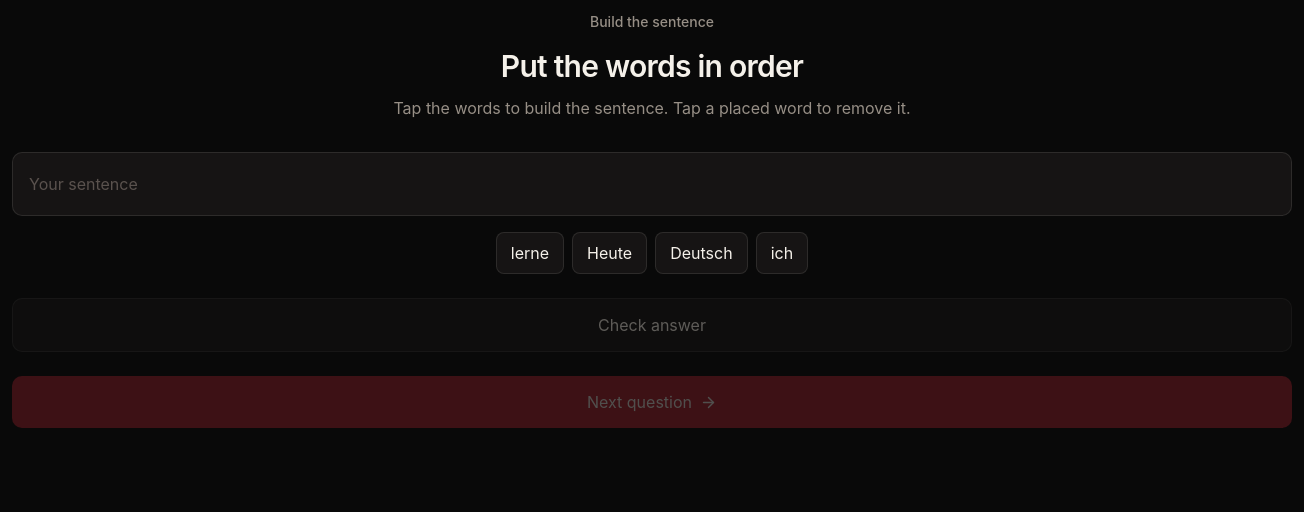
CoursePractice › rejects incorrect verb-second order
Click the button "Heute" at (610, 253), box [572,232,647,274]
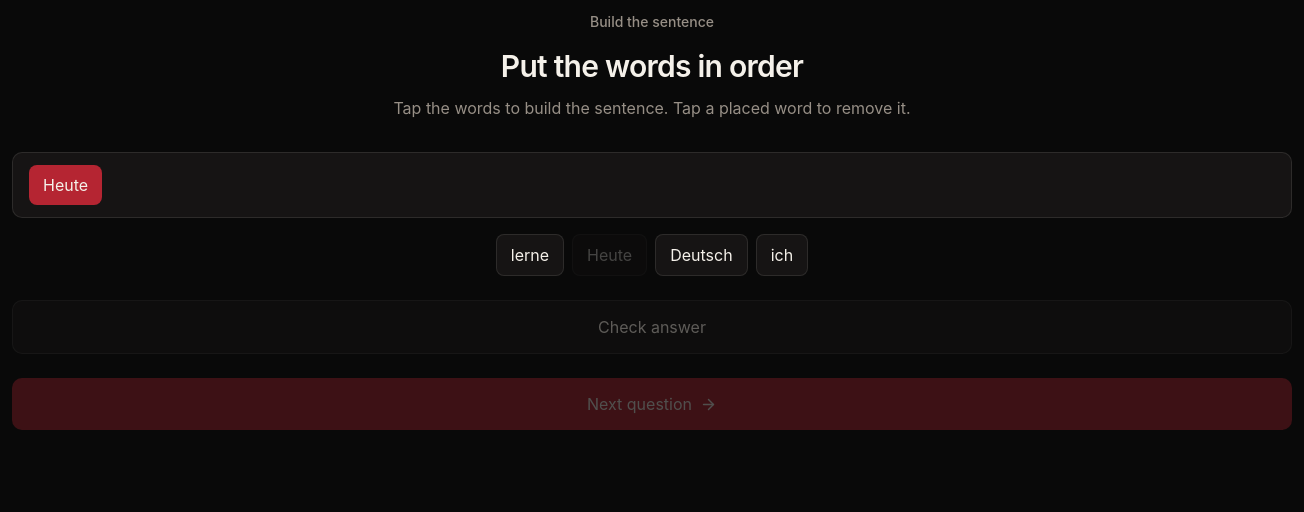
Click the button "ich" at (782, 255), box [756,234,808,276]
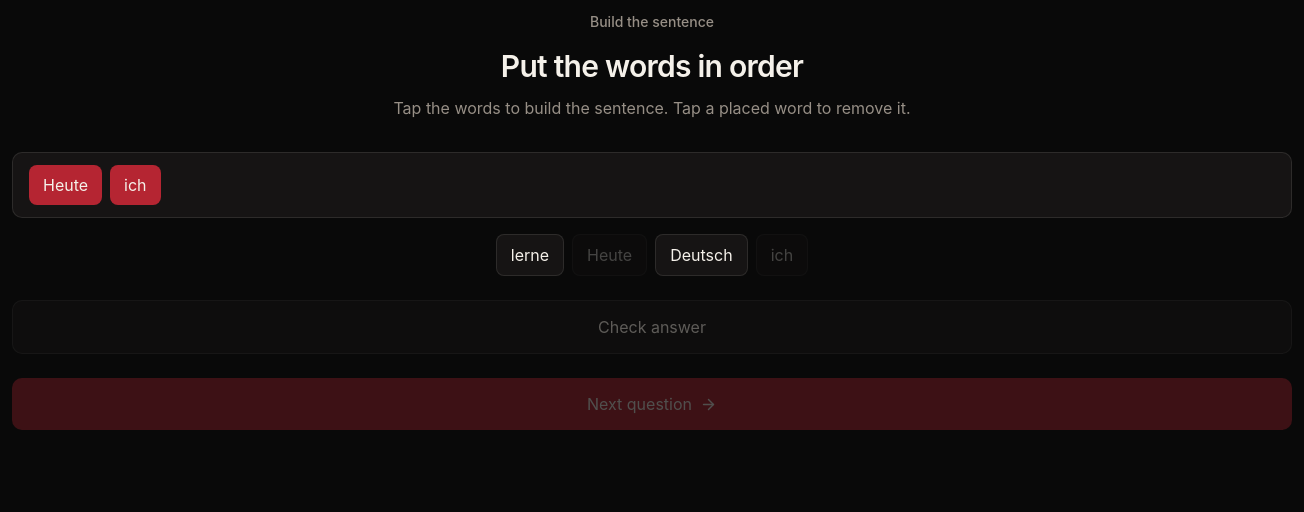
Click the button "lerne" at (530, 255), box [496,234,564,276]
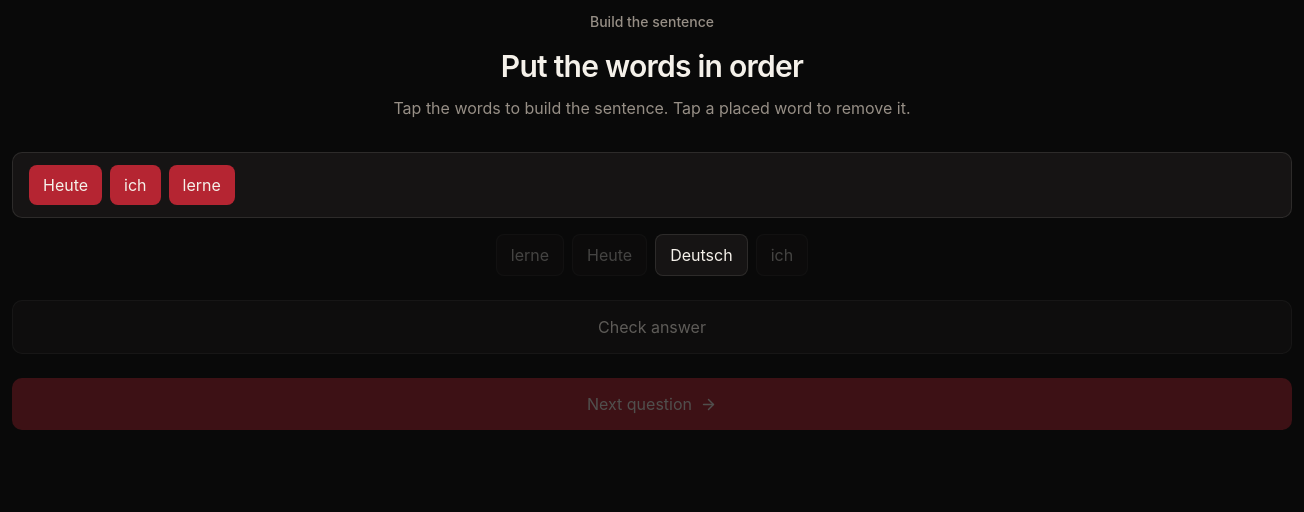
Click the button "Deutsch" at (701, 255), box [655,234,748,276]
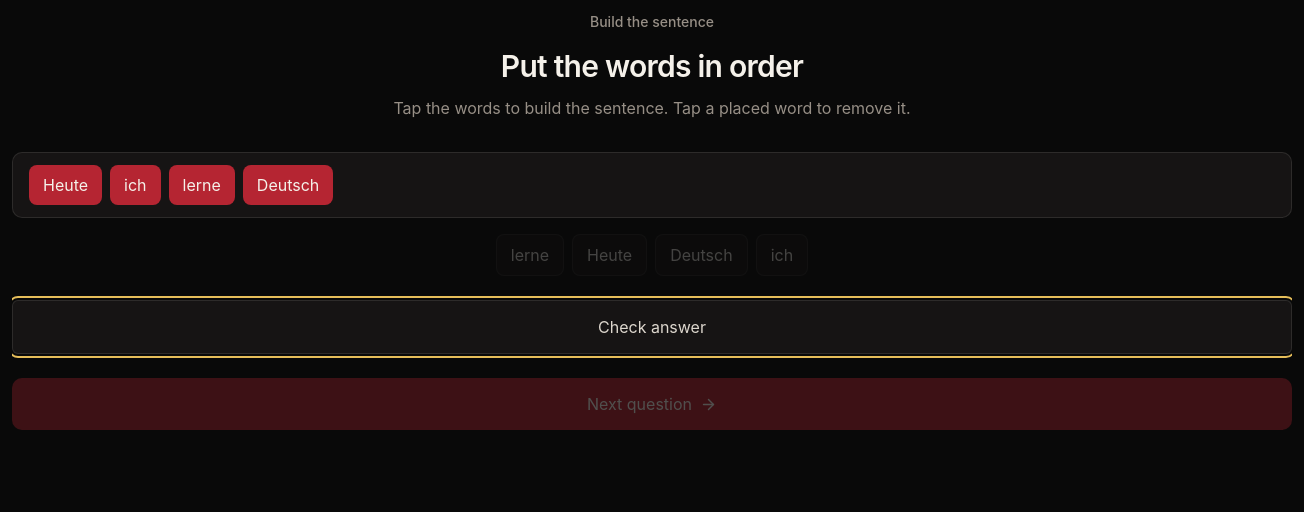
Click the button "Check answer" at (652, 327), box [12,300,1292,354]
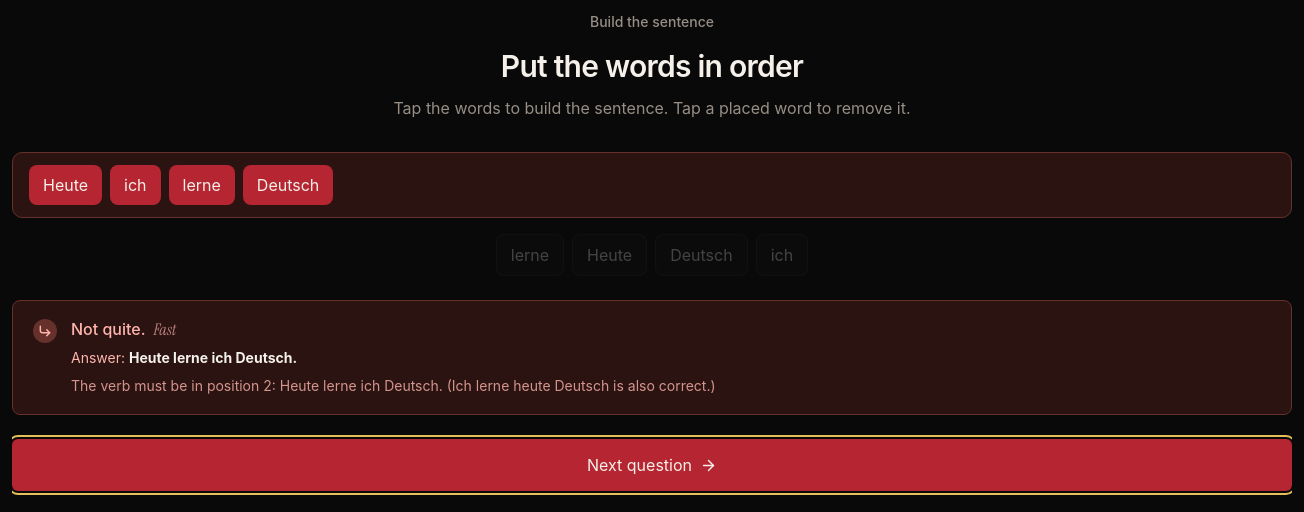
Expected: the text "Not quite." is shown, [71,317,146,341]
